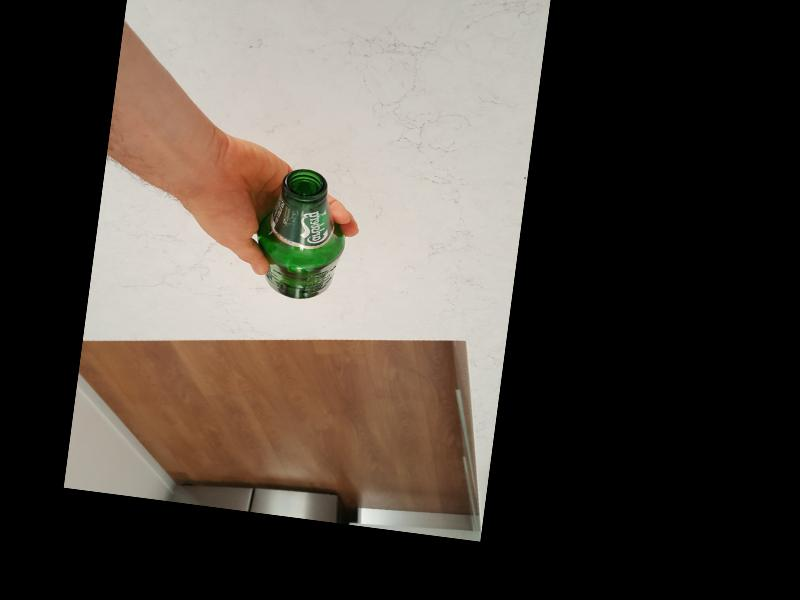Beer: (251, 164, 352, 304)
